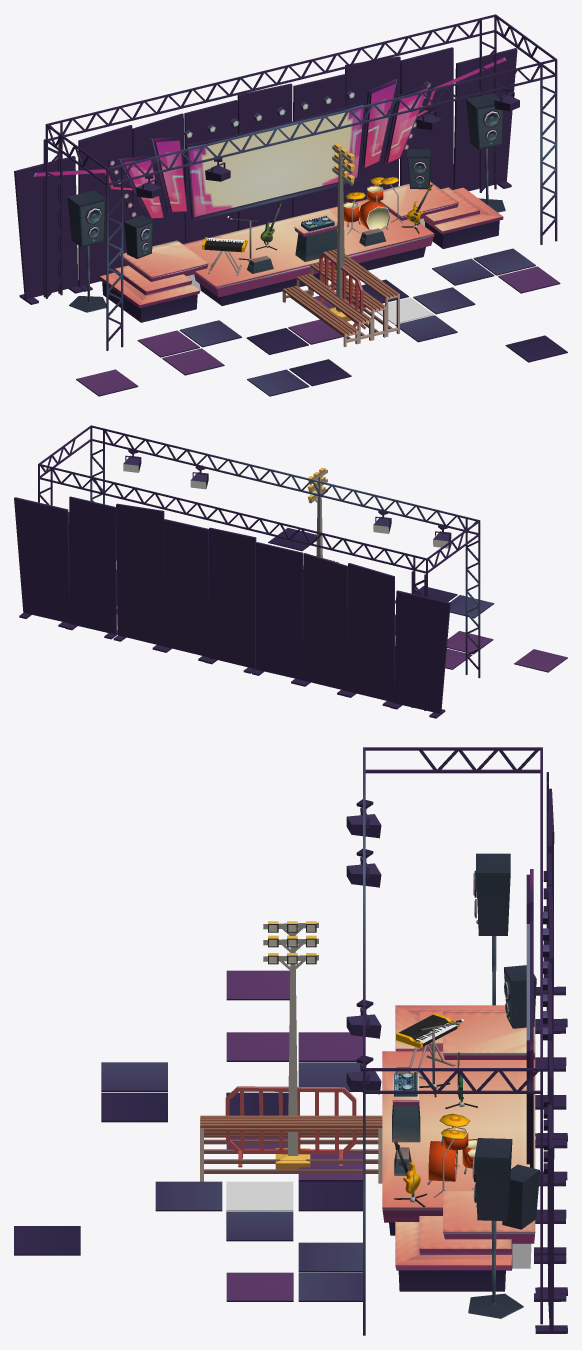
The model's file is concert.glb.
3 renders of one model, top to bottom at view 1: azimuth 30°, elevation 25°; view 2: azimuth 150°, elevation 25°; view 3: azimuth 270°, elevation 25°, orthographic. The views are drawn at different scales.
Parts seen in each view (by area): view 1: Cube_056, Cube_094, Cube_049, Cube_076, Cube_029, Cube_050, Cube_075, Cube_035, Cube_036, Cube_079, Cube_078, Cube_074 (+47 smaller); view 2: Cube_074, Cube_079, Cube_075, Cube_078, Cube_076, Cube_073, Cube_049, Cube_050, Cube_077, Cube_036, Cube_035, Cube_041 (+8 smaller); view 3: Cube_094, Cube_029, Cube_085, Cylinder_008, Cube_189, Cube_091, Cylinder, Cube_026, Cube_087, MUSICSTORE_LOD1_003, Cube_084, Cube_022 (+31 smaller).
Part boxes in pixels (<box>): Cube_056: <box>187,105,363,217</box>; Cube_094: <box>183,199,434,297</box>; Cube_049: <box>14,156,83,304</box>; Cube_076: <box>78,125,132,291</box>; Cube_029: <box>282,249,399,346</box>; Cube_050: <box>453,48,517,191</box>; Cube_075: <box>400,47,453,189</box>; Cube_035: <box>108,59,555,185</box>; Cube_036: <box>47,14,495,140</box>; Cube_079: <box>237,83,292,230</box>; Cube_078: <box>184,100,237,243</box>; Cube_074: <box>345,56,400,202</box>; Cube_074: <box>113,503,164,650</box>; Cube_079: <box>205,527,256,673</box>; Cube_075: <box>65,496,117,639</box>; Cube_078: <box>252,542,303,684</box>; Cube_076: <box>344,563,394,707</box>; Cube_073: <box>159,519,209,662</box>; Cube_049: <box>390,590,450,718</box>; Cube_050: <box>14,497,69,627</box>; Cube_077: <box>298,553,347,695</box>; Cube_036: <box>39,464,426,573</box>; Cube_035: <box>91,425,478,534</box>; Cube_041: <box>465,517,480,678</box>; Cube_094: <box>382,1051,535,1222</box>; Cube_029: <box>200,1115,382,1183</box>; Cube_085: <box>395,1216,512,1270</box>; Cylinder_008: <box>468,1138,523,1318</box>; Cube_189: <box>263,921,318,1169</box>; Cube_091: <box>443,1012,535,1059</box>; Cylinder: <box>473,853,510,1005</box>; Cube_026: <box>225,1086,356,1167</box>; Cube_087: <box>443,1191,535,1243</box>; MUSICSTORE_LOD1_003: <box>427,1113,477,1197</box>; Cube_084: <box>398,1270,505,1291</box>; Cube_022: <box>365,747,540,773</box>.
Size of the model in its own units: 5.07 by 1.67 by 3.14.
20 materials, 18 textured.
